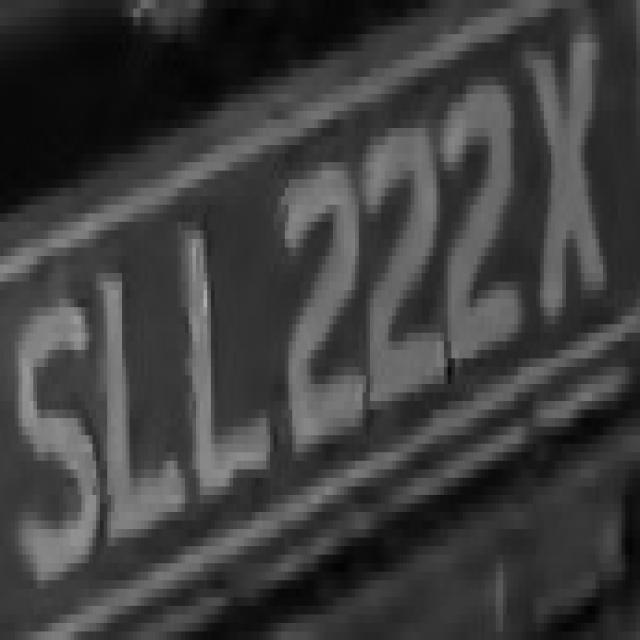2: (426, 68, 522, 401), (348, 102, 444, 427), (274, 128, 366, 461)
L: (85, 239, 189, 555), (170, 230, 274, 520)
S: (18, 256, 92, 589)
X: (526, 9, 610, 384)
